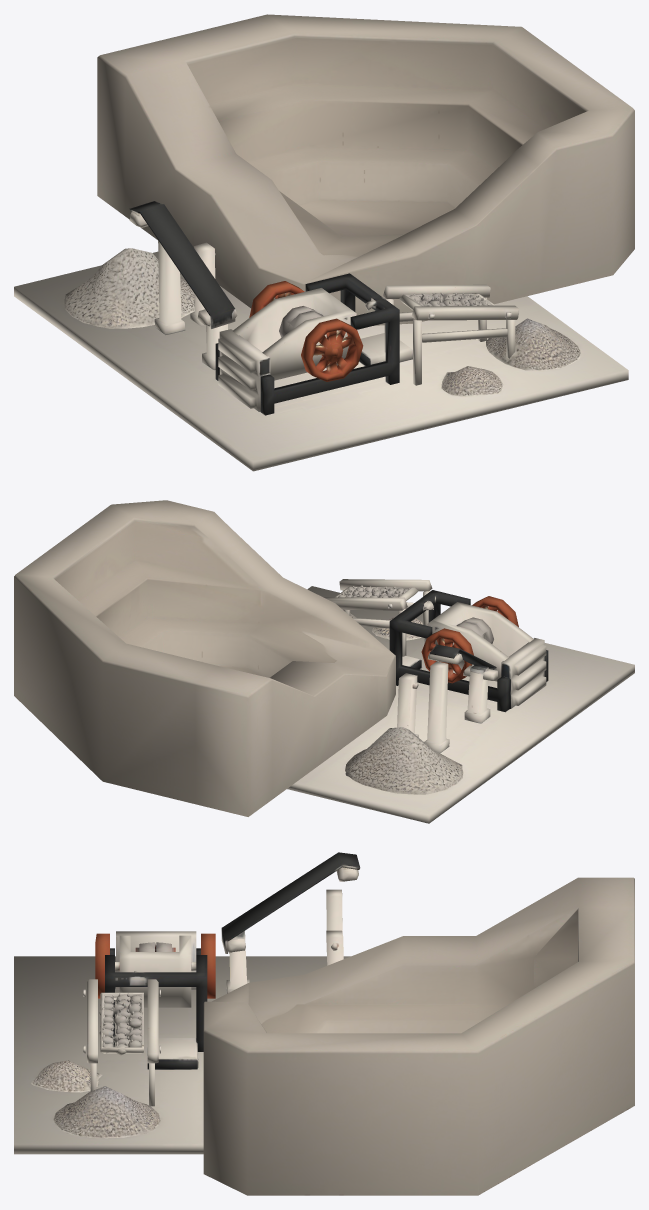
Rendered from original_glb.glb.
The picture shows the model from 3 angles, top to bottom: view 1: azimuth 30°, elevation 25°; view 2: azimuth 150°, elevation 25°; view 3: azimuth 270°, elevation 25°; orthographic projection. The views are drawn at different scales.
Visible parts, largest first — view 1: Terraced Gravel Crusher Quarry; view 2: Terraced Gravel Crusher Quarry; view 3: Terraced Gravel Crusher Quarry.
Part boxes in pixels (left/top/right/bottom): Terraced Gravel Crusher Quarry: left=14, top=14, right=634, bottom=471; Terraced Gravel Crusher Quarry: left=14, top=500, right=634, bottom=823; Terraced Gravel Crusher Quarry: left=14, top=852, right=634, bottom=1195.
Bounding box in the file's own units: 0.9434 × 0.291 × 0.998.
Materials: 1 (1 with a texture image).
